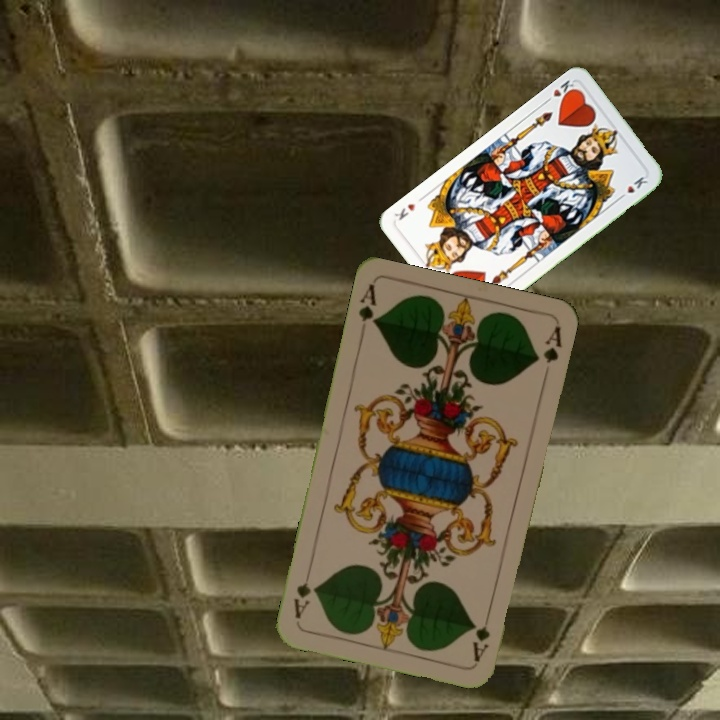GA: (468, 605, 494, 664), (354, 281, 380, 328)
HK: (541, 76, 580, 106)
